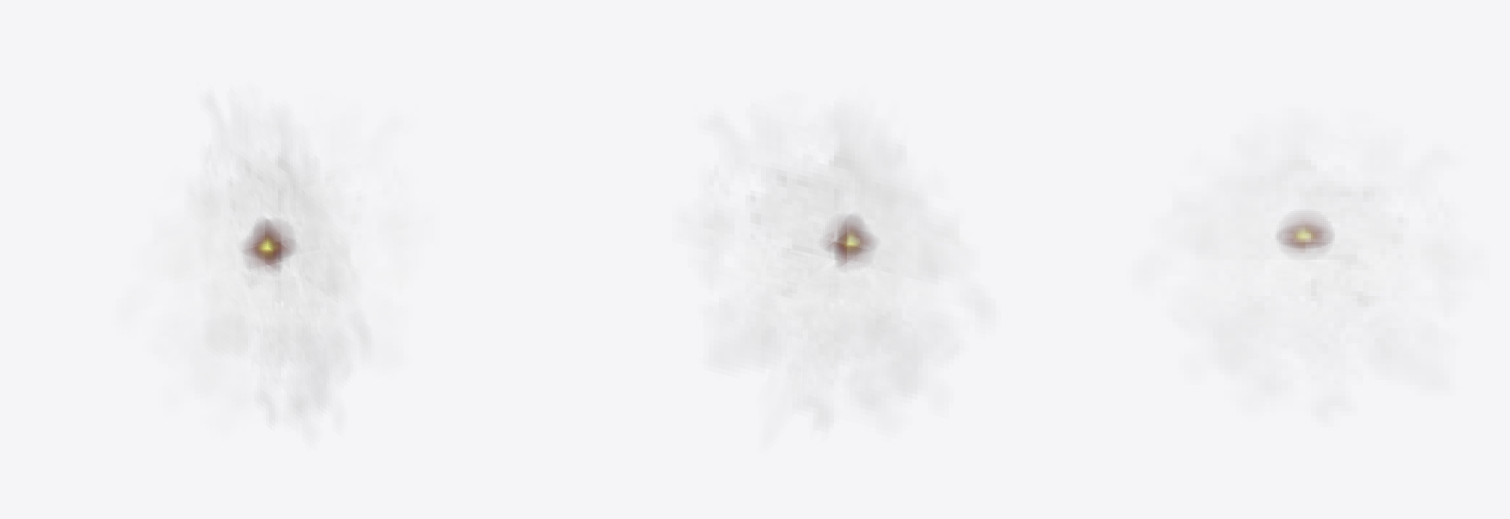
The model's file is volcanodeath.glb.
3 views of the same model, side by side, from view 1: azimuth 30°, elevation 25°; view 2: azimuth 150°, elevation 25°; view 3: azimuth 270°, elevation 25° (orthographic). The views are drawn at different scales.
Parts seen in each view (by area): view 1: mesh; view 2: mesh; view 3: mesh.
Boxes of the visible parts, bbox=[...] form: mesh: bbox=[116, 93, 477, 437]; mesh: bbox=[647, 98, 1007, 448]; mesh: bbox=[1127, 113, 1483, 426].
Bounding box in the file's own units: 5.56 × 5.56 × 5.56.
2 materials, 2 textured.
